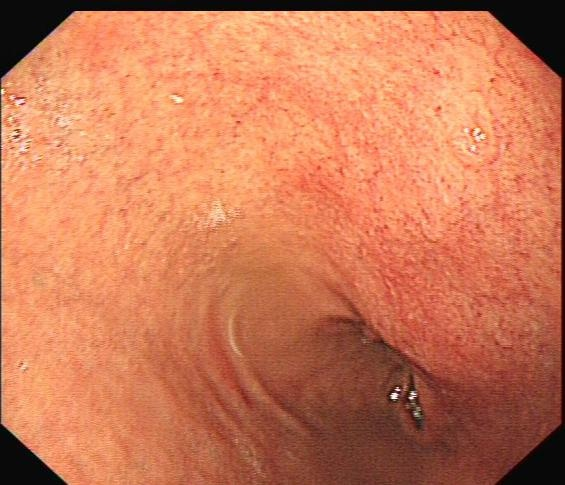Polyp: (442, 105, 503, 173)
